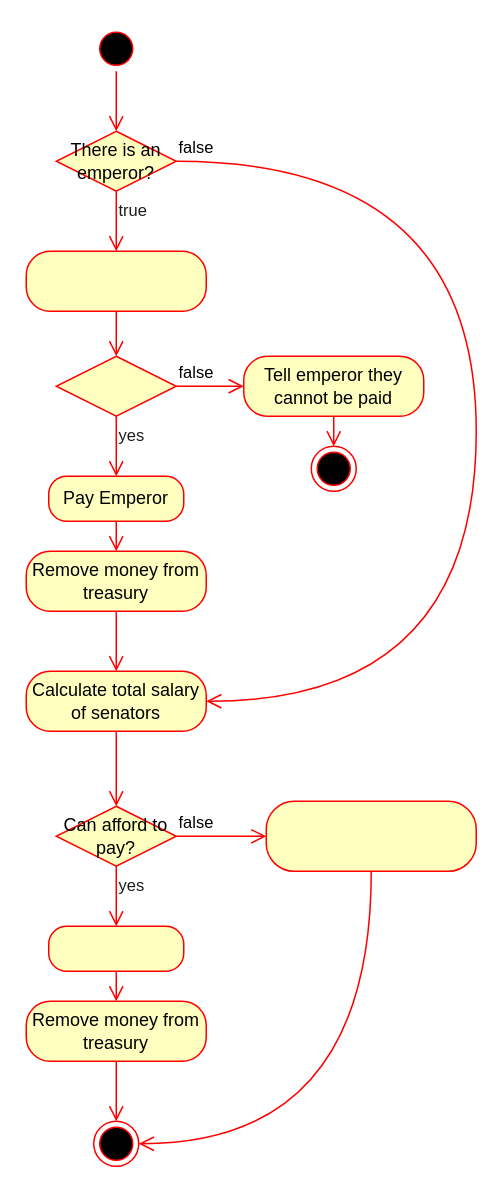
The diagram is 503 pixels wide and 1193 high, and some of its shapes have lost their labels. The centre of each missing label's shape, as x and y in pixels:
"Caclulate emperor's salary" belongs at [115,280].
"Can afford to pay emperor?" belongs at [115,385].
"Pay senators" belongs at [115,948].
"Tell senators there is no budget to pay them" belongs at [370,835].
